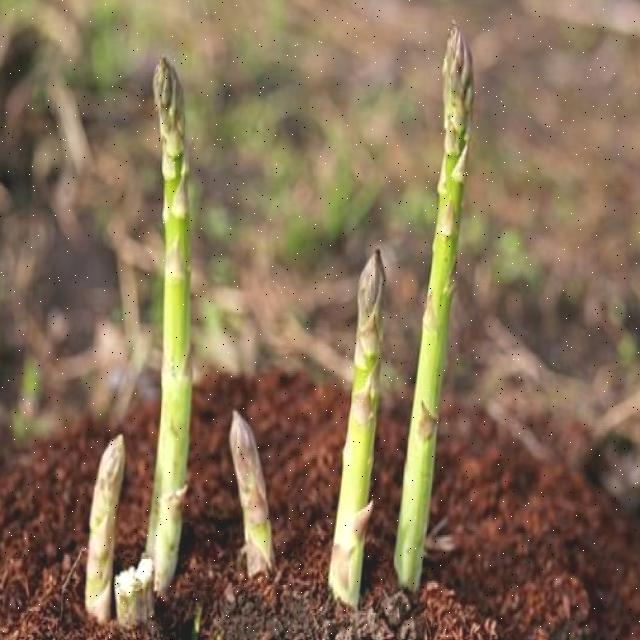aspargus: (394, 25, 475, 594), (149, 58, 193, 594), (329, 252, 386, 607)
